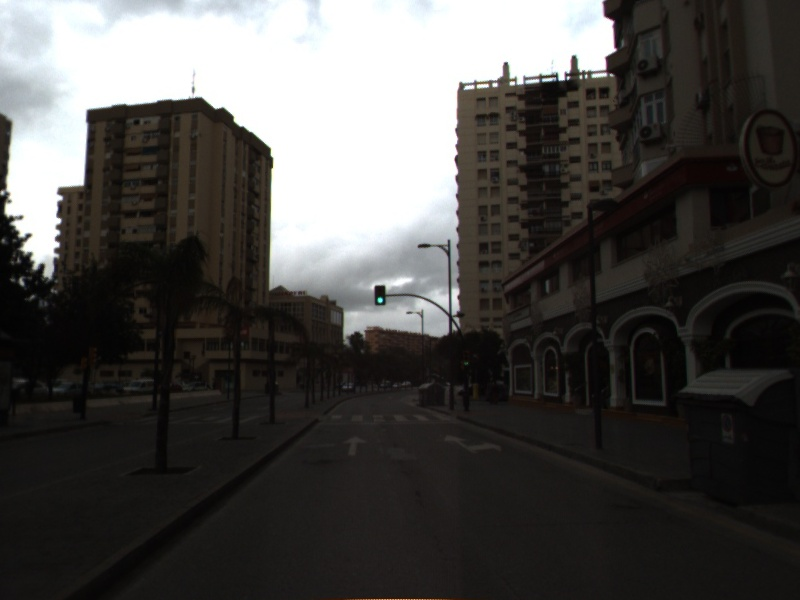STRAIGHT: (339, 434, 370, 458)
STRAIGHT_RIGHT: (442, 432, 505, 456)
